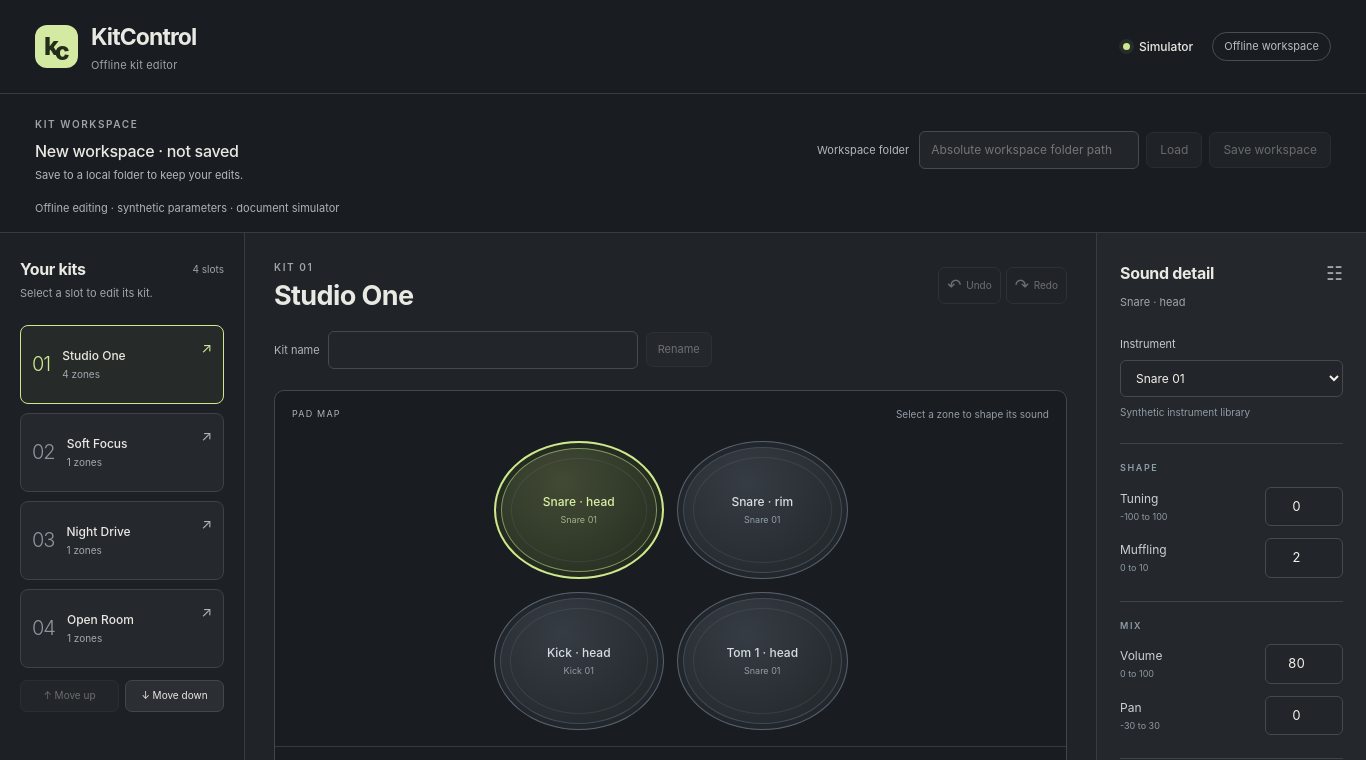
Test: kit editing through the Rust dispatcher › shows the simulator, four slots, and locks Apply until a plan exists
Expected: the heading "Studio One" is shown, [274,280,413,312]
Expected: the text "Offline workspace" is shown, [1212,32,1331,61]
Click the button "Kick · head Kick 01": (579, 661) [494,592,664,730]
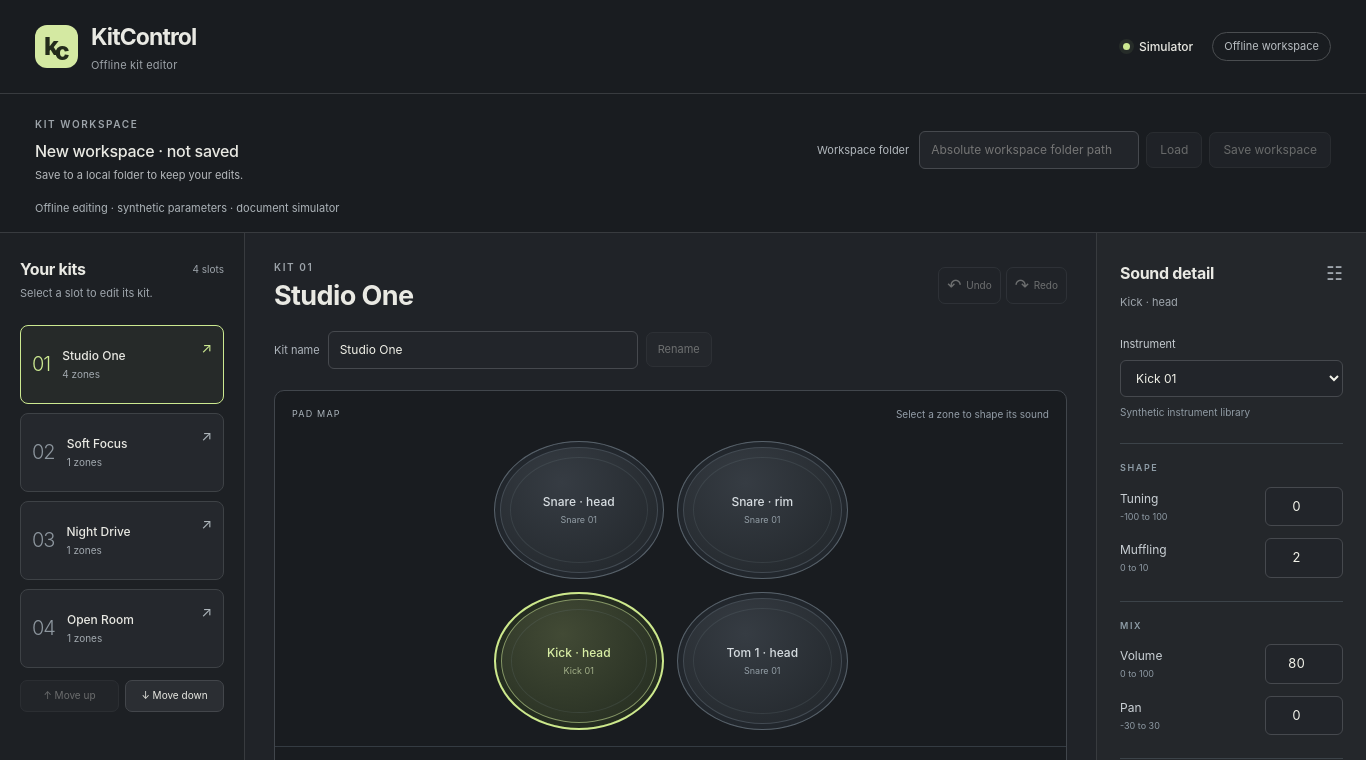
Expected: the dropdown labelled "Instrument" shows "Kick 01", [1120,360,1343,397]
